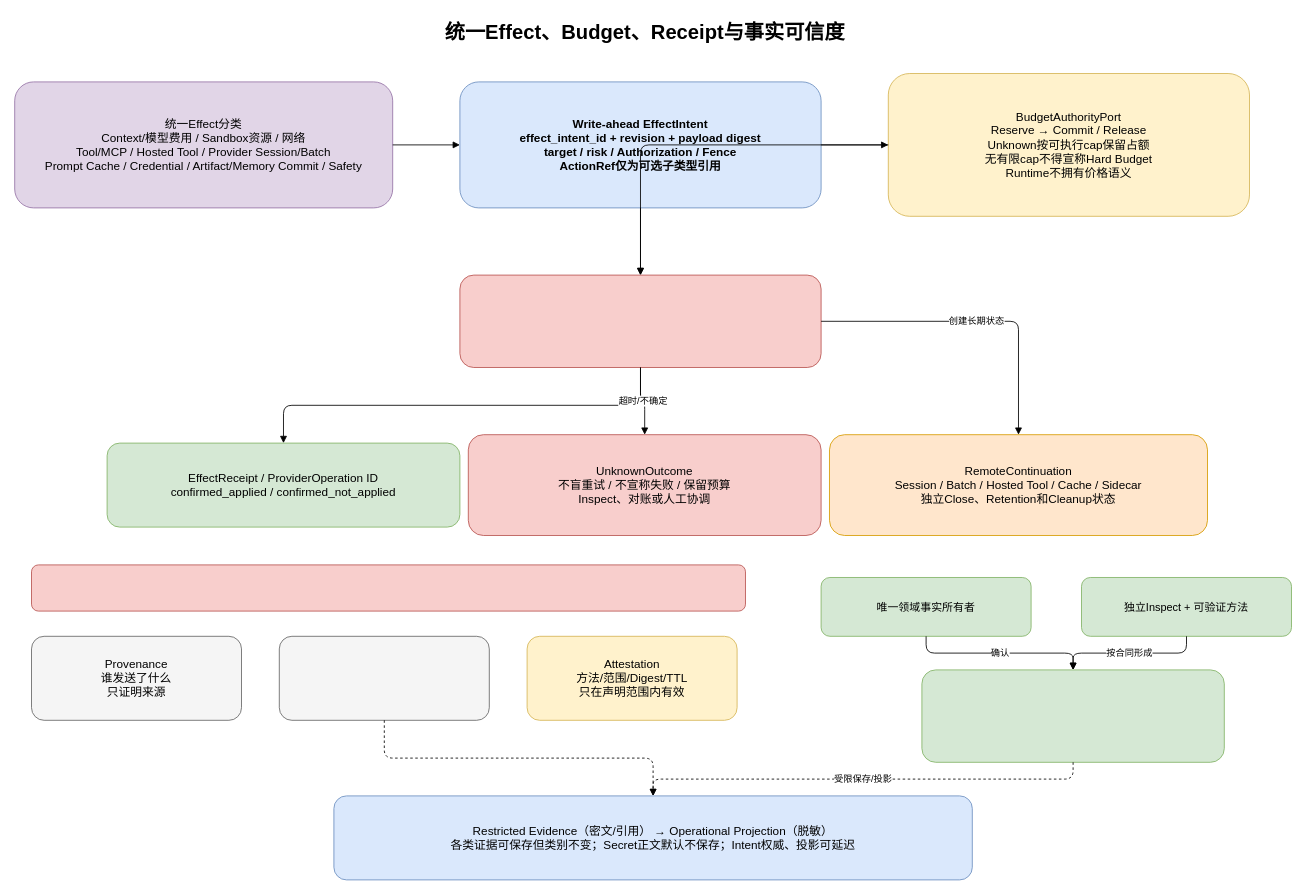
The diagram is 1306 pixels wide and 895 high, and some of its shapes have lost their labels. Here are the shapes that lost their labels. From the top down, the centre of each, then its label:
At (640,321): "最终Effect边界 重验Authority + Fence Intent和Budget均有效才Dispatch".
At (388,587): "Provenance / Observation / Attestation 是不同证据类别，互不自动升级".
At (383,677): "Observation 组件声称看到什么 可能错误或恶意".
At (1072,715): "Authoritative Fact 仅由领域Owner确认 或按合同由独立Inspect形成".
